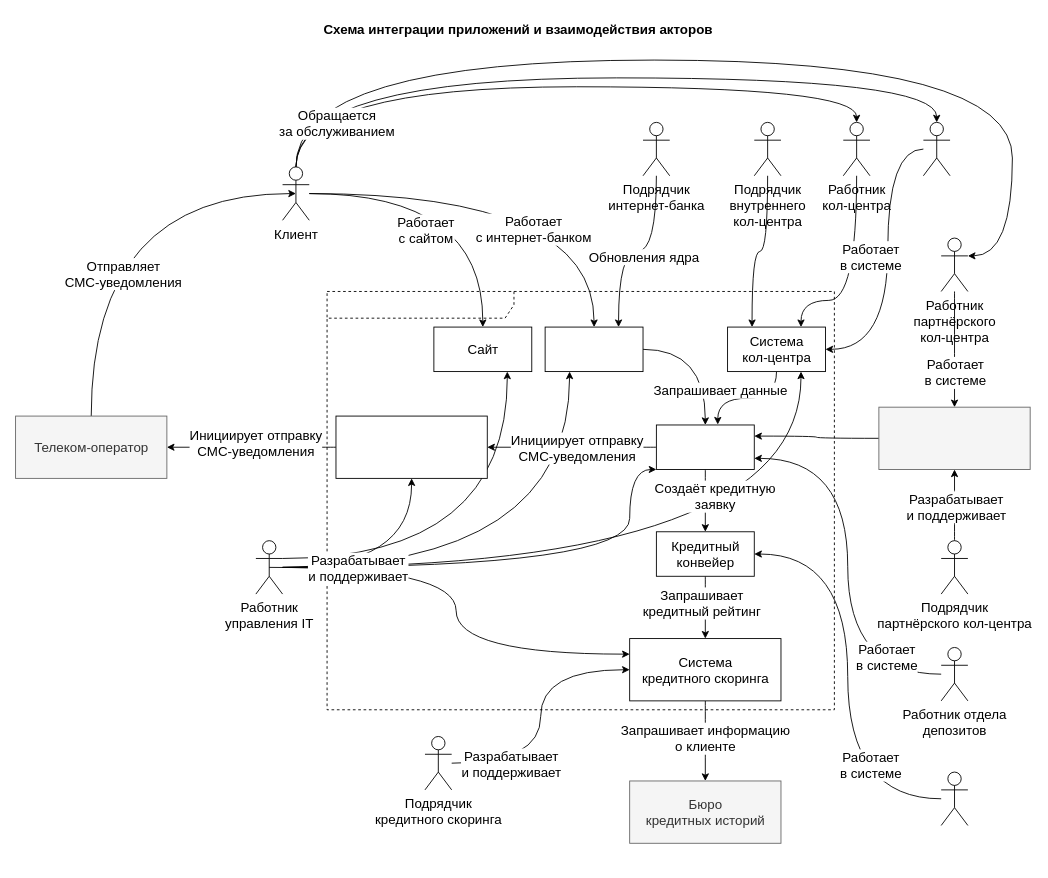
Some shapes in this 1048 by 878 pixel diagram are drawn without their labels. Here are the shapes that lost their labels. From the top down, the box of each, then its label:
(922, 121, 950, 176): Работник отделения
(544, 326, 643, 372): Интернет-банк
(335, 415, 487, 478): СМС-шлюз телеком-оператора
(655, 424, 754, 469): АБС
(878, 406, 1030, 469): Система партнёрского кол-центра
(326, 291, 834, 710): IT-инфраструктуру банка
(940, 771, 968, 825): Работник отдела кредитования
